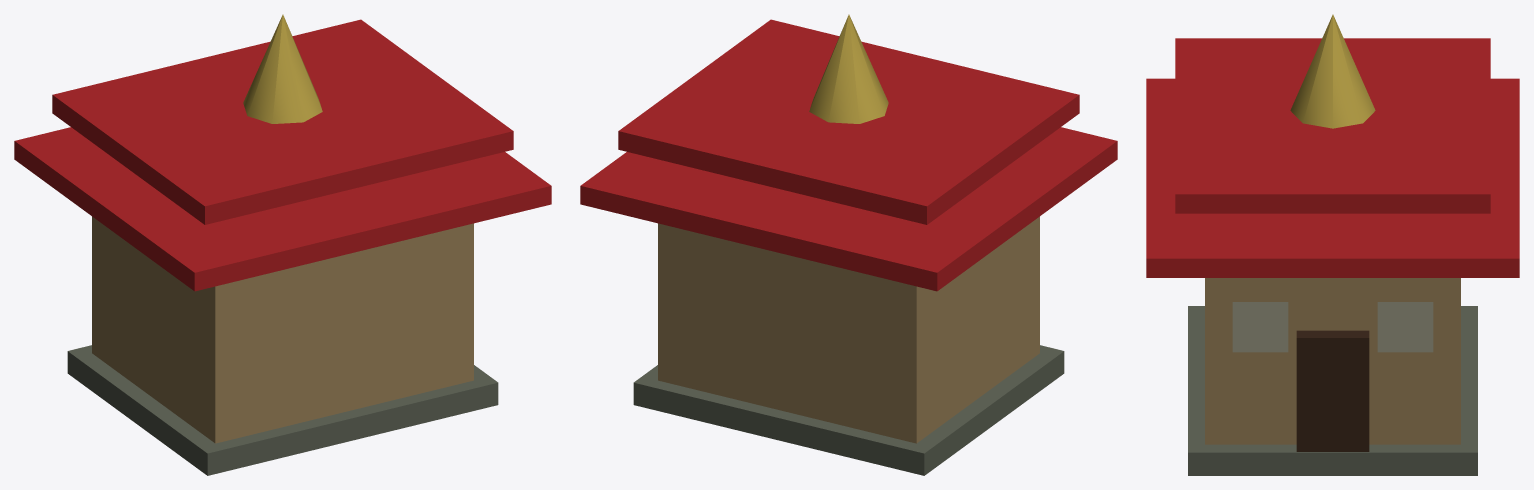
Rendered from pagoda.glb.
The picture shows the model from 3 angles, left to right: view 1: azimuth 30°, elevation 25°; view 2: azimuth 150°, elevation 25°; view 3: azimuth 270°, elevation 25°; orthographic projection. The views are drawn at different scales.
Parts seen in each view (by area): view 1: walls, tierRoofUpper, tierRoofLower, foundation, spire; view 2: walls, tierRoofUpper, tierRoofLower, foundation, spire; view 3: tierRoofUpper, walls, tierRoofLower, foundation, frontDoor, spire, windowLeft, windowRight.
Part boxes in pixels (bbox=[...]): walls: bbox=[92, 216, 473, 443]; tierRoofUpper: bbox=[52, 19, 513, 224]; tierRoofLower: bbox=[14, 127, 551, 291]; foundation: bbox=[67, 345, 498, 475]; spire: bbox=[243, 14, 322, 123]; walls: bbox=[658, 216, 1039, 443]; tierRoofUpper: bbox=[618, 19, 1079, 224]; tierRoofLower: bbox=[580, 127, 1117, 291]; foundation: bbox=[633, 345, 1064, 475]; spire: bbox=[809, 14, 888, 123]; tierRoofUpper: bbox=[1175, 38, 1490, 213]; walls: bbox=[1205, 278, 1460, 444]; tierRoofLower: bbox=[1146, 78, 1519, 277]; foundation: bbox=[1188, 306, 1477, 475]; frontDoor: bbox=[1296, 330, 1369, 451]; spire: bbox=[1290, 14, 1375, 128]; windowLeft: bbox=[1233, 302, 1287, 351]; windowRight: bbox=[1378, 302, 1432, 351].
Bounding box in the file's own units: 2 × 2.01 × 1.75.
